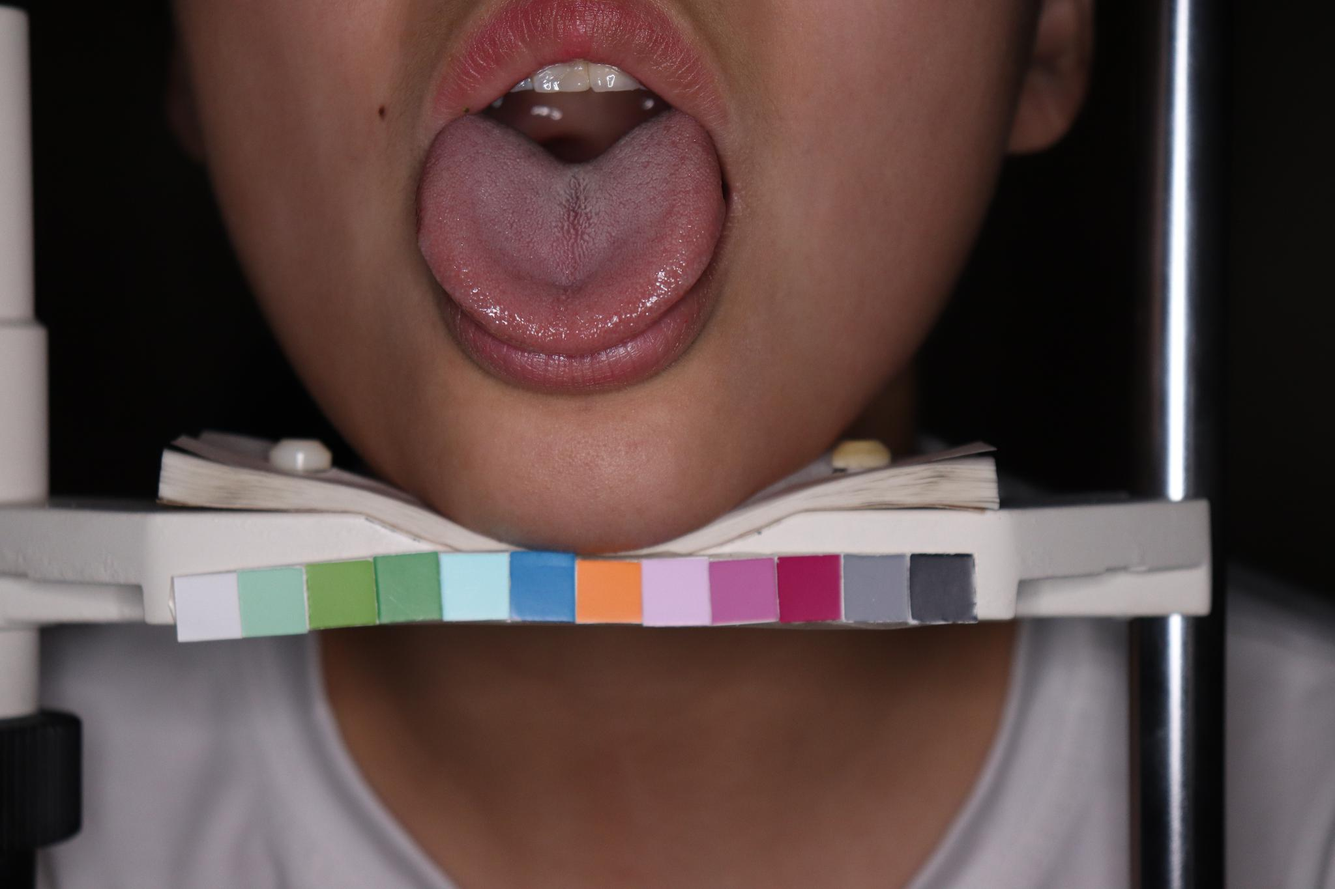baitaishe: (418, 114, 727, 356)
hongshe: (418, 113, 727, 356)
liewenshe: (561, 175, 593, 283)
shenquao: (467, 113, 674, 180)
